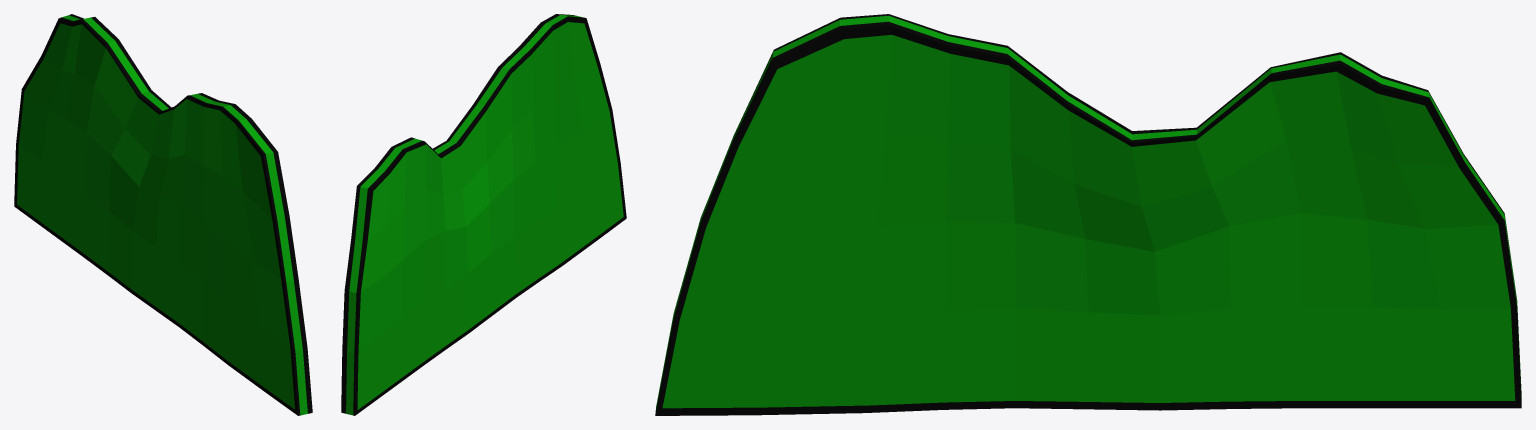
The model's file is CardboardBush07.fbx.
3 views of the same model, side by side, from view 1: azimuth 30°, elevation 25°; view 2: azimuth 150°, elevation 25°; view 3: azimuth 270°, elevation 25° (orthographic). The views are drawn at different scales.
Visible parts, largest first — view 1: Cube.050; view 2: Cube.050; view 3: Cube.050.
Part boxes in pixels (x1,y1,x2,y2): Cube.050: (14,14,312,415); Cube.050: (341,14,626,415); Cube.050: (655,14,1521,415).
Bounding box in the file's own units: 29.24 × 216 × 435.
